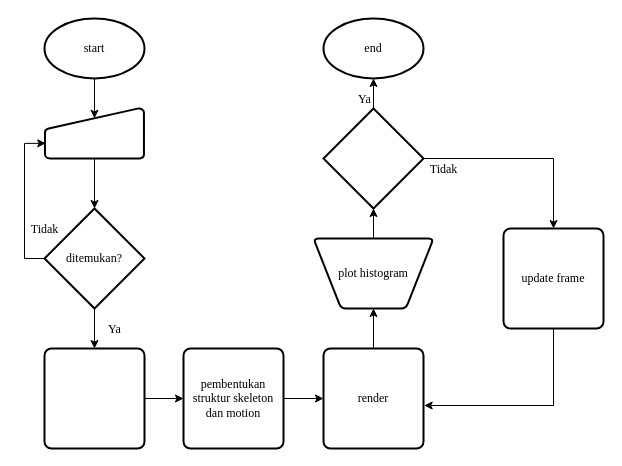
This 622x466 diagram has some shape labels left out. Each missing label, with the box of its shape:
bvh file path: (44, 107, 144, 159)
frame terakhir?: (322, 107, 424, 209)
parsing file bvh: (43, 347, 145, 449)
